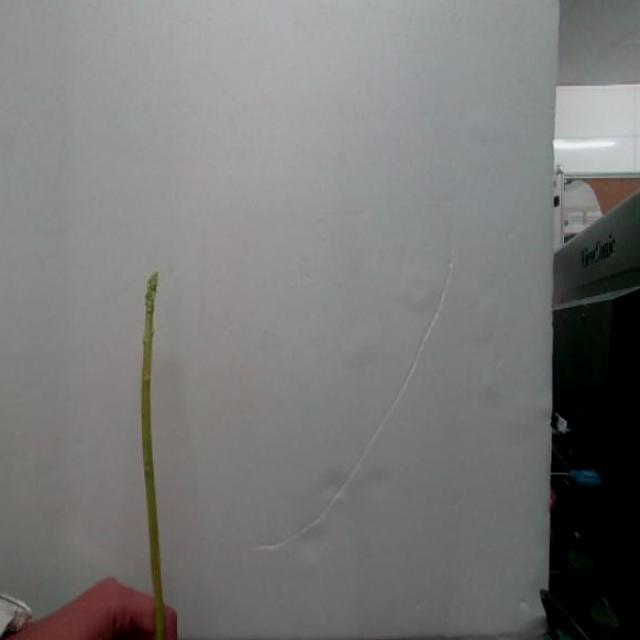aspargus: (141, 274, 169, 640)
